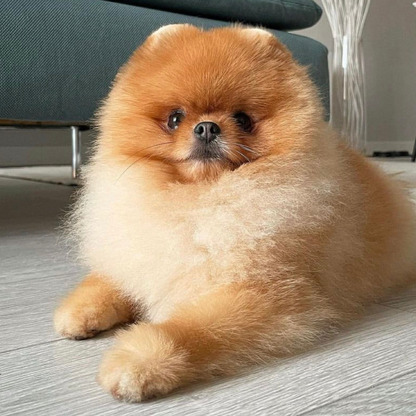Pomeranian: (62, 14, 388, 398)
